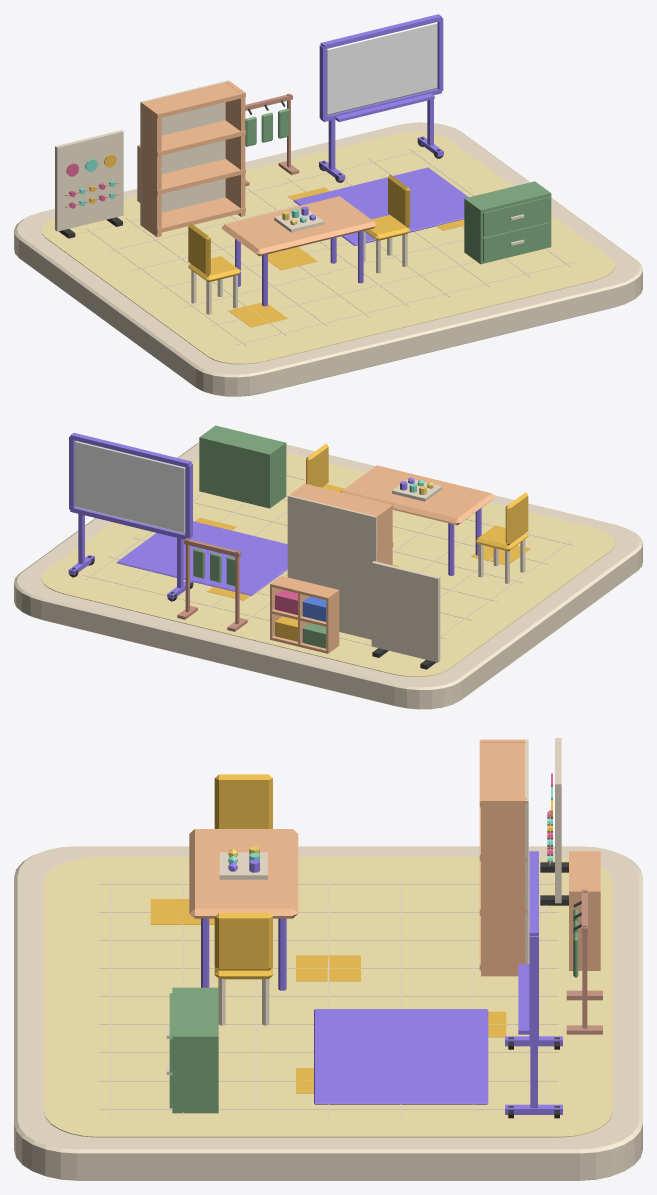
3 views of the same model, one above another, from view 1: azimuth 30°, elevation 25°; view 2: azimuth 150°, elevation 25°; view 3: azimuth 270°, elevation 25° (orthographic). The views are drawn at different scales.
Parts seen in each view (by area): view 1: COM-02 Floor Surface, COM-01 Rounded Base Direct, Writing surface, Cabinet, Panel, Rug, Rounded table top, Back, Side, Side.001, Shelf.003, Shelf.002 (+12 smaller); view 2: COM-02 Floor Surface, COM-01 Rounded Base Direct, Back, Writing surface, Panel, Cabinet, Rug, Rounded table top, Shelf.003, Frame rail.001, Backrest, Backrest.001 (+13 smaller); view 3: COM-02 Floor Surface, COM-01 Rounded Base Direct, Rug, Rounded table top, Side.001, Cabinet, Backrest.001, Backrest, Shelf.003, Cubbies divider.002, Geometric color tile.001, Cubbies shelf.002 (+11 smaller).
Part boxes in pixels (<box>): COM-02 Floor Surface: <box>41,132,615,364</box>; COM-01 Rounded Base Direct: <box>14,122,642,396</box>; Writing surface: <box>327,22,437,115</box>; Cabinet: <box>464,181,551,264</box>; Panel: <box>55,130,123,231</box>; Rug: <box>293,167,468,245</box>; Rounded table top: <box>221,196,376,256</box>; Back: <box>140,80,229,225</box>; Side: <box>141,101,161,237</box>; Side.001: <box>225,81,245,216</box>; Shelf.003: <box>141,82,245,118</box>; Shelf.002: <box>141,120,245,156</box>; COM-02 Floor Surface: <box>41,453,615,676</box>; COM-01 Rounded Base Direct: <box>14,443,642,709</box>; Back: <box>287,495,377,639</box>; Writing surface: <box>74,440,185,533</box>; Panel: <box>371,561,440,662</box>; Cabinet: <box>199,425,286,508</box>; Rug: <box>117,521,287,595</box>; Rounded table top: <box>340,465,494,525</box>; Shelf.003: <box>294,483,393,520</box>; Frame rail.001: <box>70,433,191,467</box>; Backrest: <box>505,492,528,545</box>; Backrest.001: <box>306,444,328,487</box>; COM-02 Floor Surface: <box>44,857,612,1137</box>; COM-01 Rounded Base Direct: <box>14,846,642,1180</box>; Rug: <box>314,1009,488,1104</box>; Rounded table top: <box>189,829,298,918</box>; Side.001: <box>481,798,526,976</box>; Cabinet: <box>166,987,218,1113</box>; Backrest.001: <box>214,913,272,970</box>; Backrest: <box>214,774,272,828</box>; Shelf.003: <box>479,740,527,807</box>; Cubbies divider.002: <box>569,892,600,970</box>; Geometric color tile.001: <box>296,955,360,981</box>; Cubbies shelf.002: <box>569,851,600,891</box>.
Size of the model in its own units: 6 by 2.04 by 5.2.
1 material, 1 textured.
